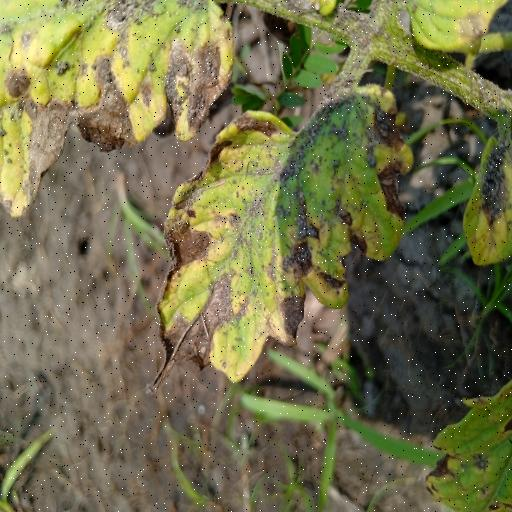Tomato_Brown_Spots: (148, 92, 388, 401), (0, 0, 239, 230)
